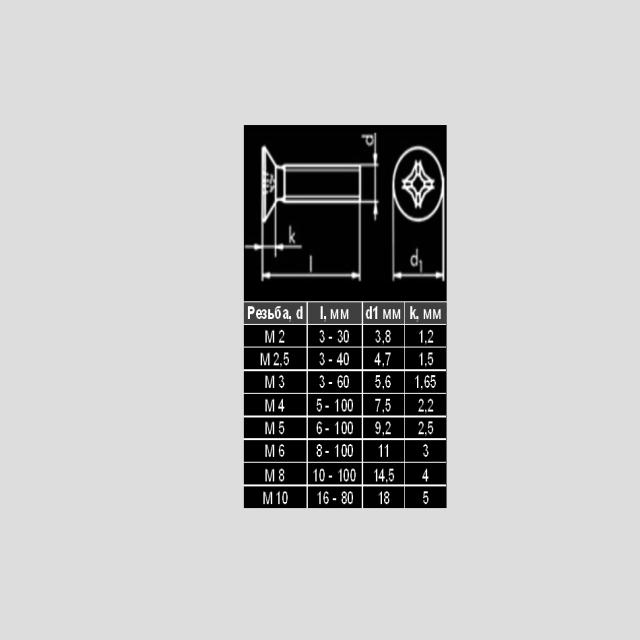marking_line: (259, 222, 363, 281), (391, 223, 445, 281), (246, 226, 304, 253), (274, 206, 304, 257), (363, 133, 381, 168), (361, 196, 379, 222)
numeric: (373, 350, 381, 367), (416, 397, 425, 412), (318, 467, 326, 483), (316, 397, 324, 413), (274, 350, 281, 368), (417, 421, 425, 436), (427, 421, 435, 436), (278, 420, 285, 436), (340, 443, 347, 459), (374, 397, 381, 413), (385, 420, 392, 436), (427, 328, 434, 344), (423, 488, 429, 506), (282, 491, 289, 506), (347, 491, 354, 506), (343, 468, 350, 483), (347, 420, 354, 435), (343, 352, 350, 367), (319, 352, 326, 367), (319, 328, 326, 343), (349, 469, 357, 482), (386, 350, 392, 367), (428, 350, 434, 367), (278, 330, 285, 344), (278, 443, 285, 457), (341, 491, 348, 505), (388, 468, 395, 482), (427, 399, 434, 413), (347, 442, 353, 458), (385, 330, 392, 343), (284, 352, 290, 367), (278, 374, 284, 389), (278, 398, 284, 413), (323, 491, 329, 506), (316, 420, 322, 435), (342, 420, 348, 435), (373, 467, 379, 482), (379, 468, 385, 483), (385, 397, 391, 412), (424, 374, 430, 389), (423, 444, 429, 459), (375, 373, 380, 390), (385, 443, 390, 460), (276, 491, 282, 505), (312, 468, 318, 482), (316, 444, 322, 458), (342, 399, 348, 413), (338, 374, 344, 388), (343, 376, 349, 390), (375, 422, 382, 434), (384, 492, 391, 504), (430, 375, 436, 389), (422, 468, 428, 482), (338, 467, 343, 483), (335, 397, 340, 413), (279, 469, 285, 482), (336, 352, 342, 365), (385, 375, 391, 388), (415, 376, 421, 389), (334, 420, 339, 435), (320, 372, 324, 390), (379, 442, 383, 460), (375, 330, 380, 344), (418, 352, 423, 366), (334, 444, 339, 457), (348, 399, 353, 412), (318, 491, 322, 506), (379, 491, 383, 506), (419, 329, 423, 344)
